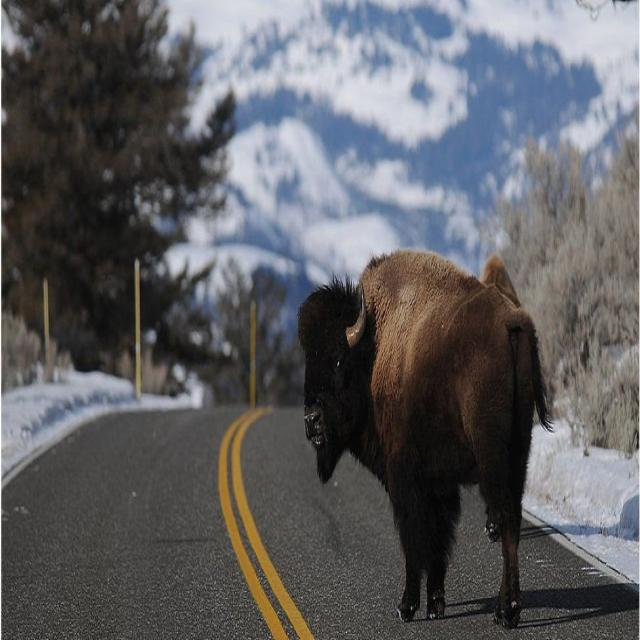Bison: (292, 226, 563, 632)
